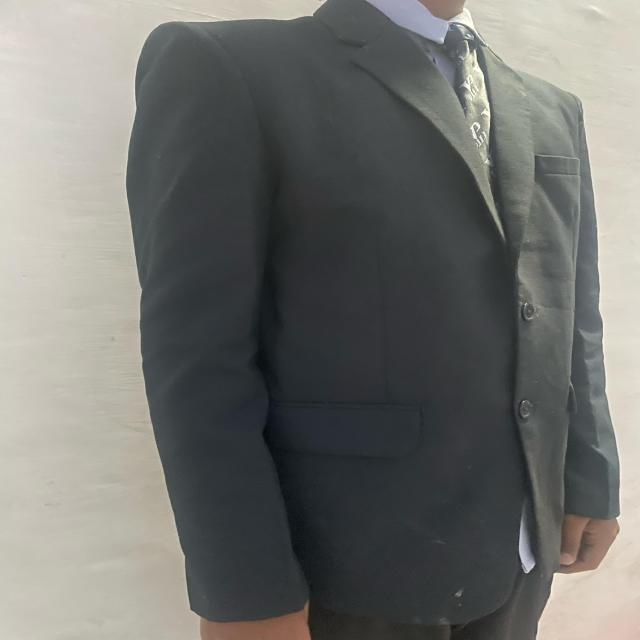Tie: (455, 35, 492, 140)
uniform: (126, 0, 622, 638)
